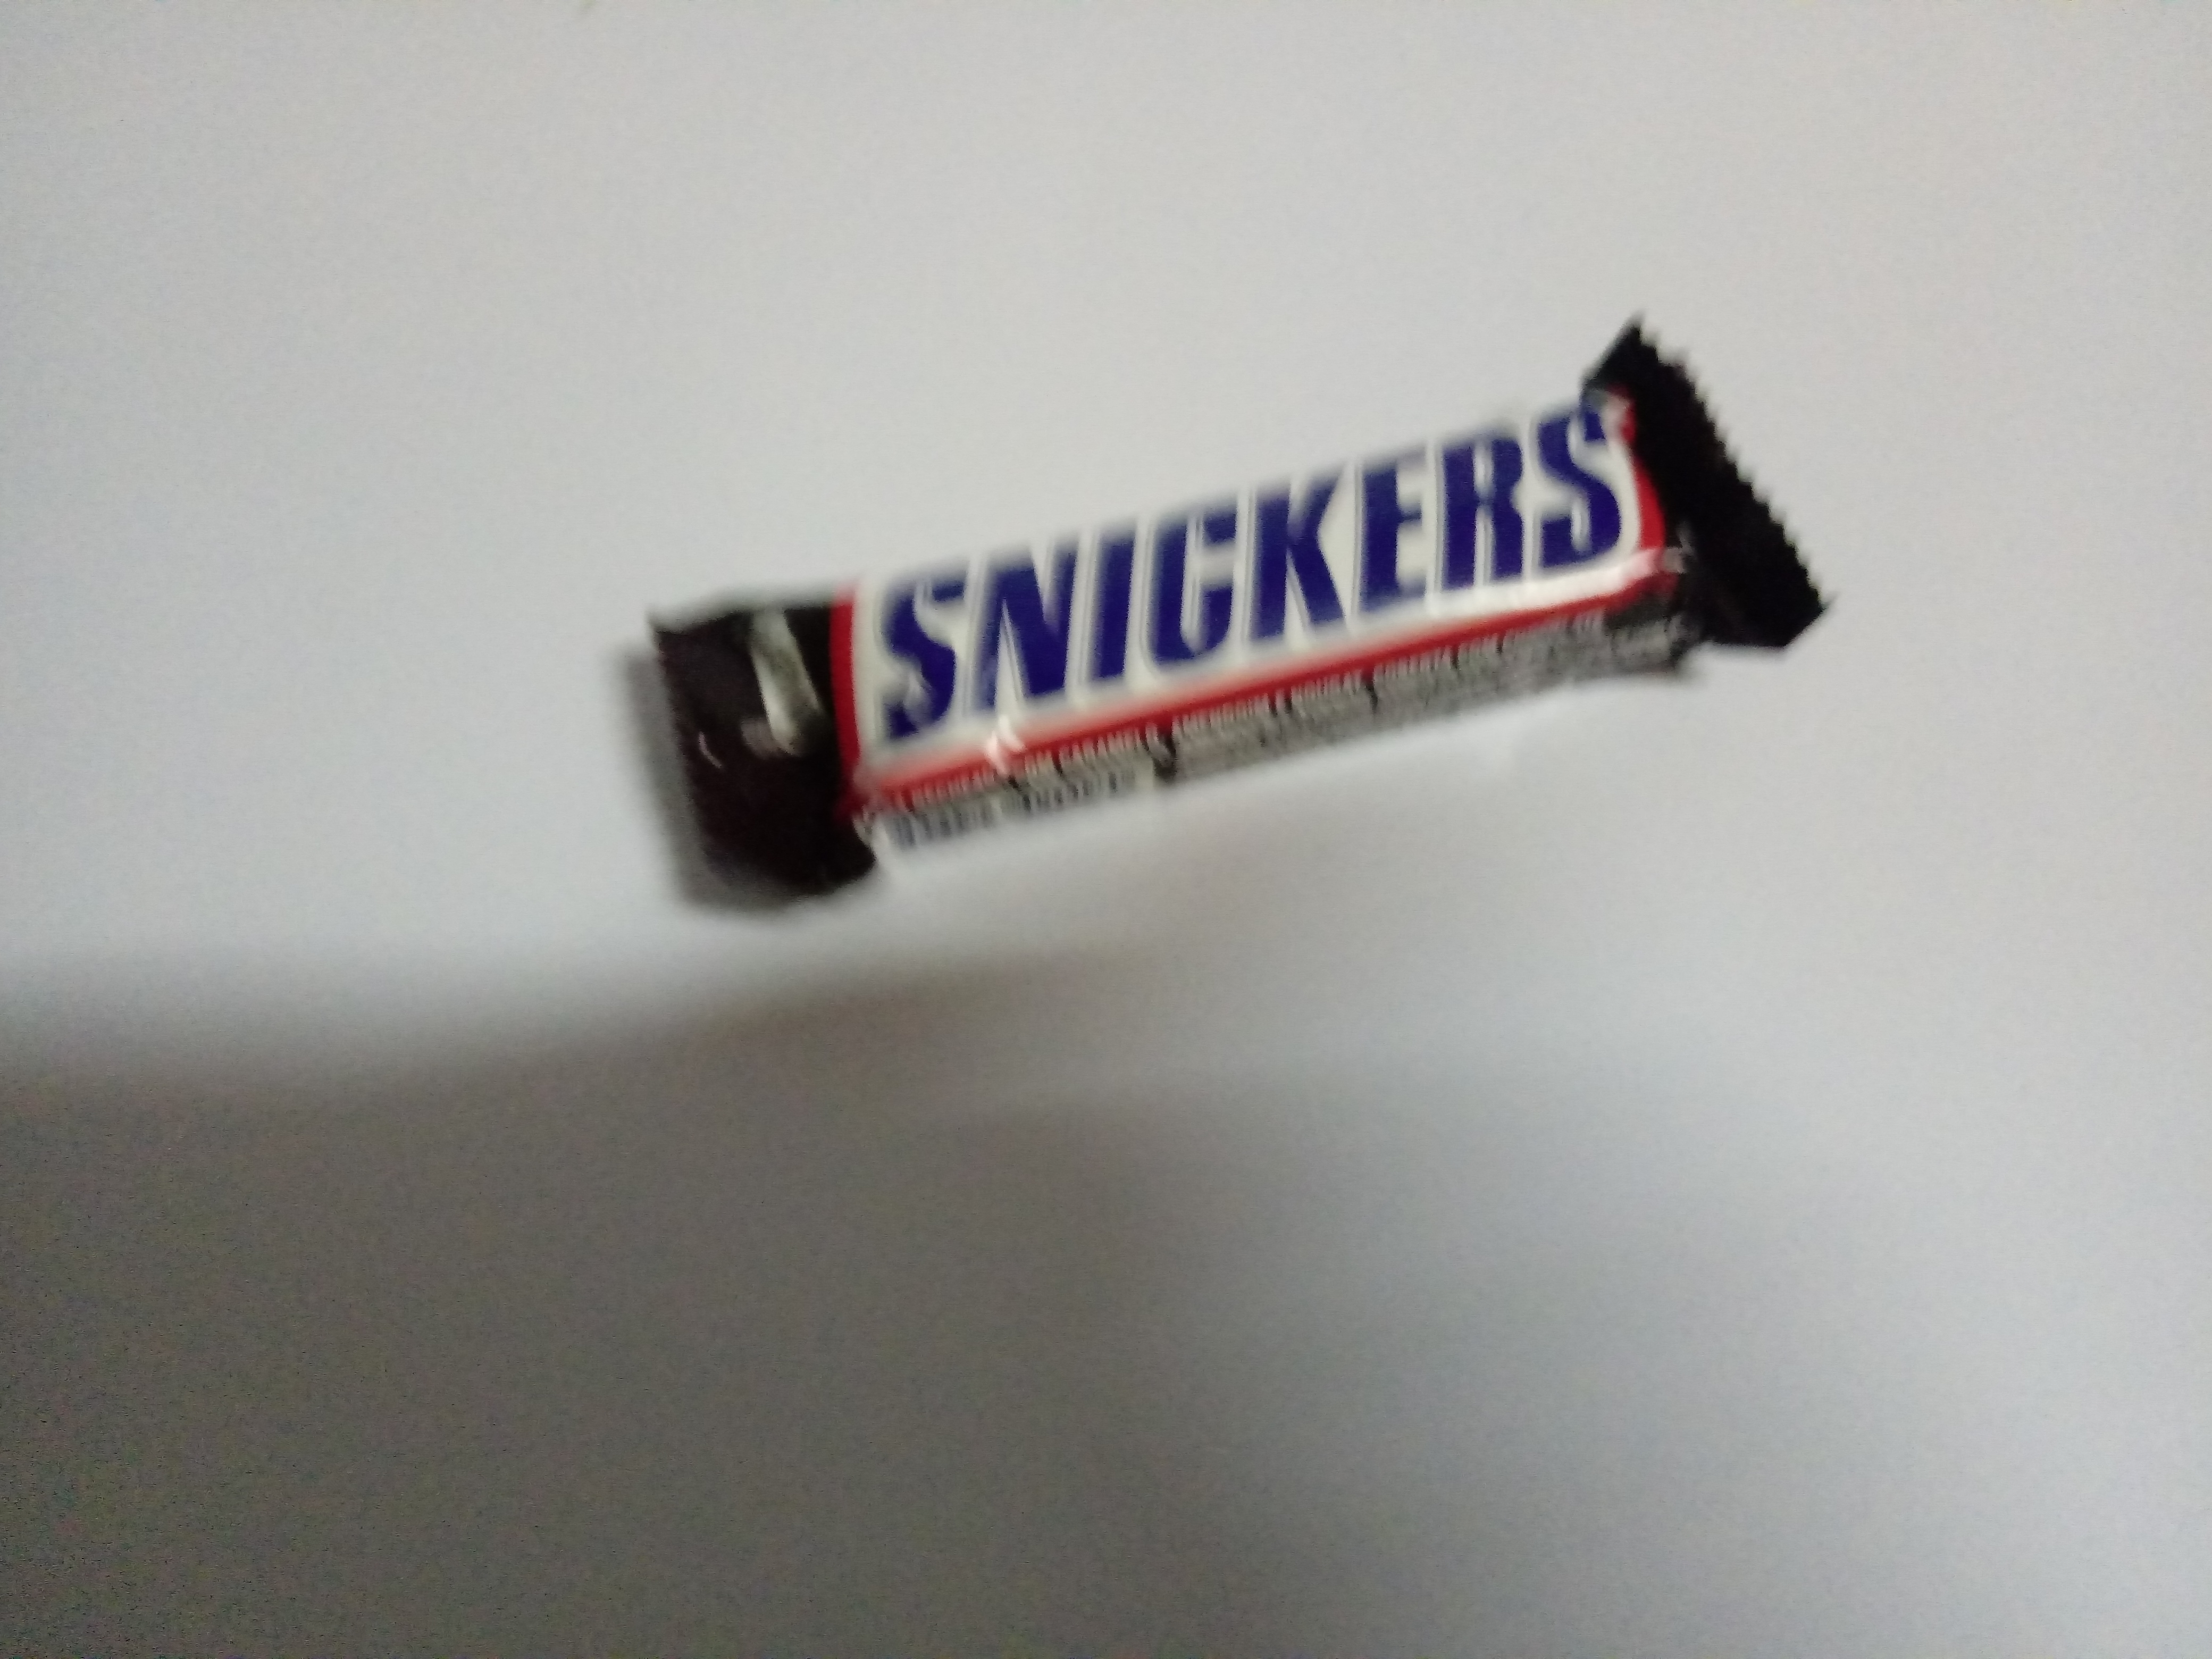snickers: (636, 296, 1838, 910)
